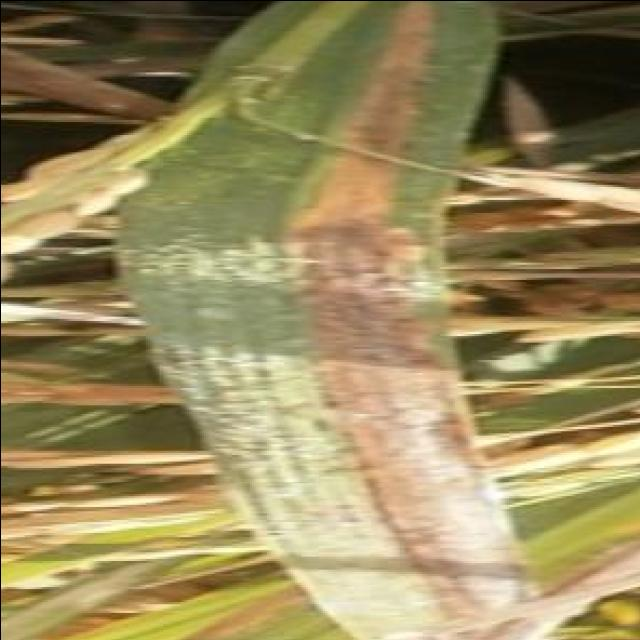Bacterial_Leaf_Blight: (173, 2, 476, 580)
